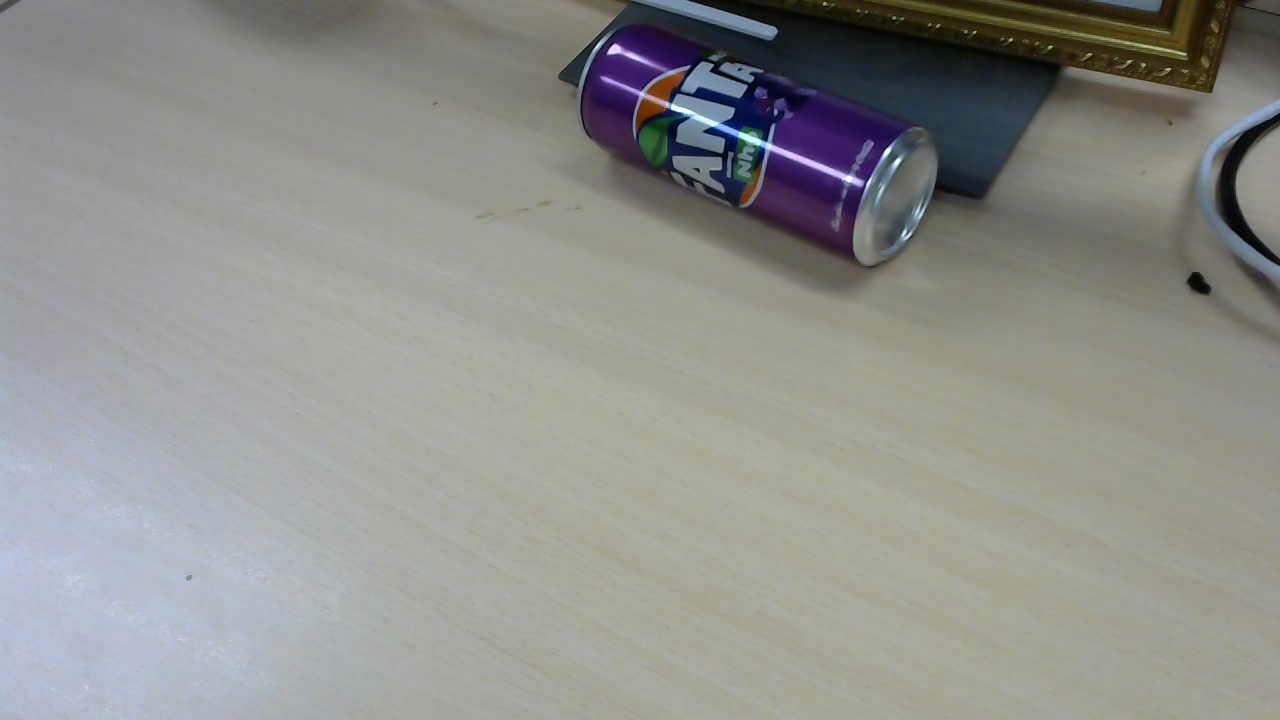Fanta: (581, 24, 945, 272)
